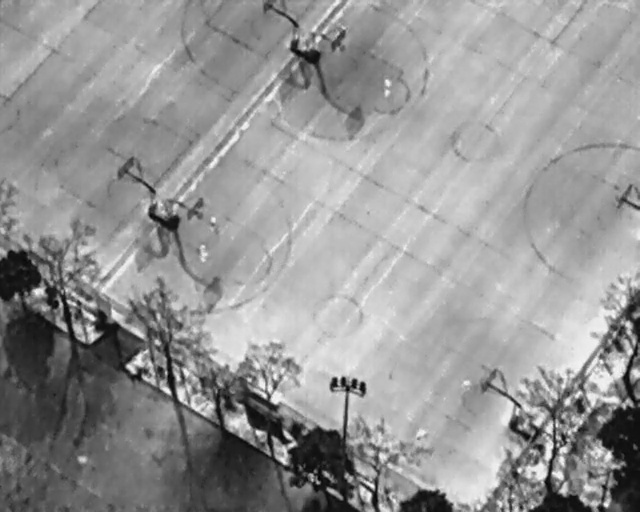Person: (416, 426, 430, 447), (382, 76, 392, 98), (198, 242, 208, 264), (462, 377, 471, 396), (211, 215, 217, 236)
